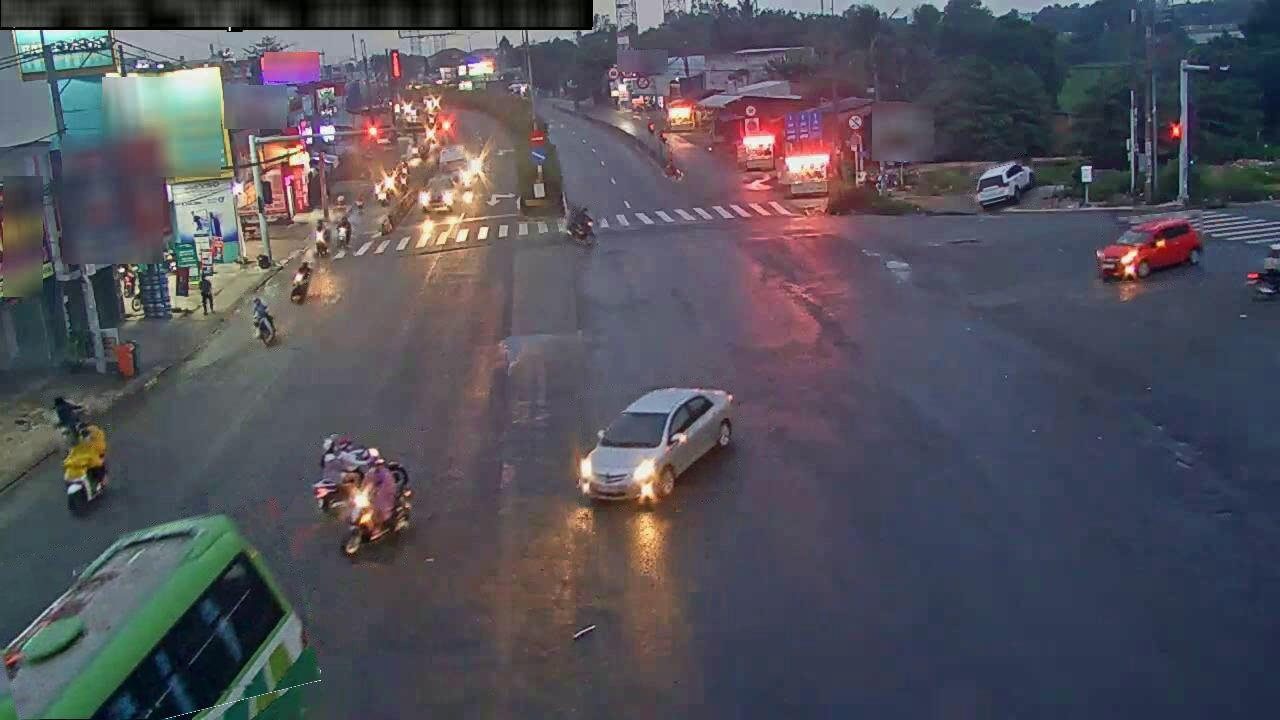Bus: (438, 145, 473, 186)
Car: (0, 515, 318, 719), (577, 387, 733, 500), (1095, 218, 1203, 280), (975, 161, 1035, 209), (419, 176, 454, 212), (1262, 242, 1279, 273)
Motorcycle: (312, 435, 407, 510), (566, 207, 595, 243), (290, 265, 310, 304), (569, 219, 595, 245)
Motorcyclist: (341, 458, 413, 556), (62, 423, 108, 515), (53, 395, 99, 447), (252, 297, 276, 345), (333, 213, 353, 249), (314, 220, 329, 256)
Pedestrian: (200, 273, 214, 314)
Traffic light: (390, 51, 402, 79)
